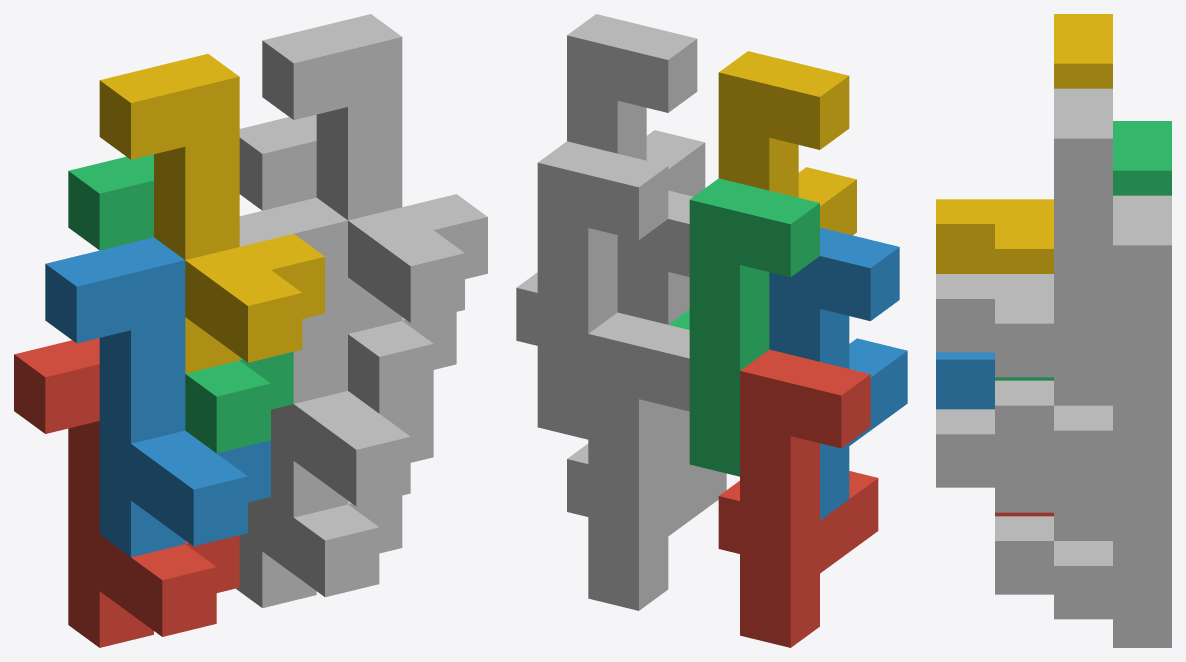
The model's file is tiling.obj.
The picture shows the model from 3 angles, left to right: view 1: azimuth 30°, elevation 25°; view 2: azimuth 150°, elevation 25°; view 3: azimuth 270°, elevation 25°; orthographic projection. The views are drawn at different scales.
Visible parts, largest first — view 1: copy_1_domain_2, copy_1_domain_8, copy_1_domain_4, copy_1_domain_6, copy_1_domain_1, copy_1_domain_3, copy_1_domain_7, copy_1_domain_5; view 2: copy_1_domain_1, copy_1_domain_5, copy_1_domain_7, copy_1_domain_3, copy_1_domain_2, copy_1_domain_4, copy_1_domain_8, copy_1_domain_6; view 3: copy_1_domain_8, copy_1_domain_7, copy_1_domain_5, copy_1_domain_4, copy_1_domain_6, copy_1_domain_3, copy_1_domain_2.
Boxes of the visible parts, <box> form: copy_1_domain_2: <box>45,237,270,557</box>; copy_1_domain_8: <box>262,14,487,333</box>; copy_1_domain_4: <box>99,54,324,373</box>; copy_1_domain_6: <box>239,197,433,517</box>; copy_1_domain_1: <box>14,338,239,647</box>; copy_1_domain_3: <box>68,154,293,453</box>; copy_1_domain_7: <box>239,114,456,413</box>; copy_1_domain_5: <box>236,495,402,608</box>; copy_1_domain_1: <box>718,349,878,647</box>; copy_1_domain_5: <box>567,312,726,610</box>; copy_1_domain_7: <box>516,141,668,439</box>; copy_1_domain_3: <box>668,178,819,476</box>; copy_1_domain_2: <box>769,227,907,520</box>; copy_1_domain_4: <box>718,51,856,235</box>; copy_1_domain_8: <box>567,14,705,196</box>; copy_1_domain_6: <box>617,190,692,483</box>; copy_1_domain_8: <box>936,88,1112,405</box>; copy_1_domain_7: <box>995,195,1171,512</box>; copy_1_domain_5: <box>995,512,1171,647</box>; copy_1_domain_4: <box>936,14,1112,273</box>; copy_1_domain_6: <box>936,409,1112,540</box>; copy_1_domain_3: <box>995,121,1171,380</box>; copy_1_domain_2: <box>936,352,994,409</box>.
Bounding box in the file's own units: 7 × 10 × 4.
